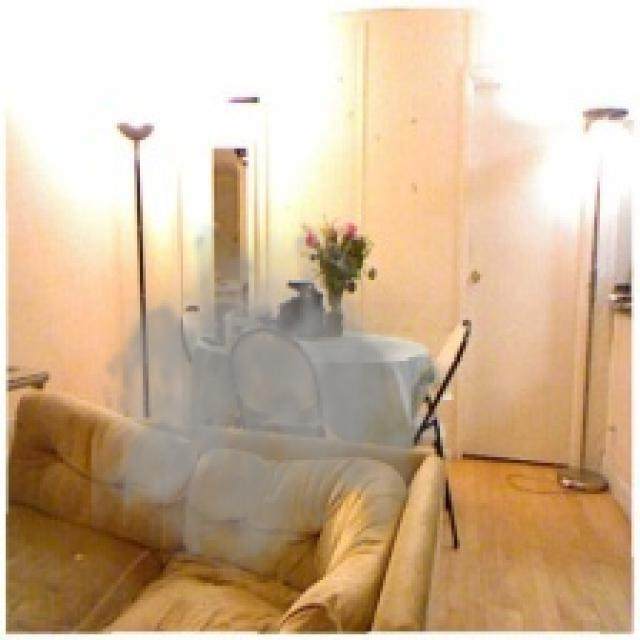Smoke: (91, 220, 452, 589)
